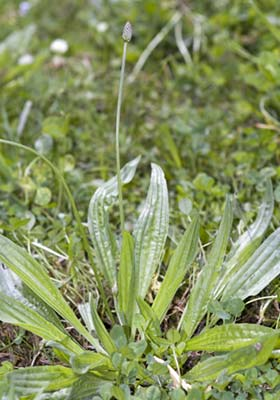buckhorn plantain: (20, 21, 264, 388)
